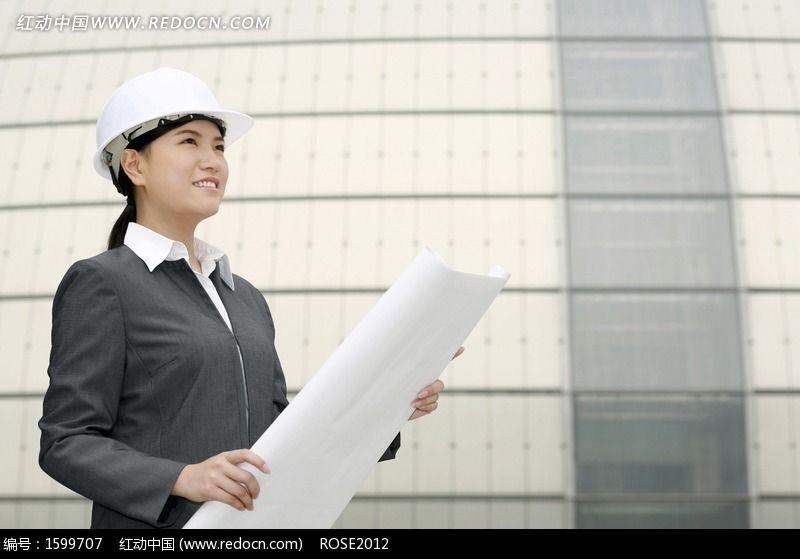helmet: (92, 67, 257, 178)
no_wear: (60, 261, 275, 471)
